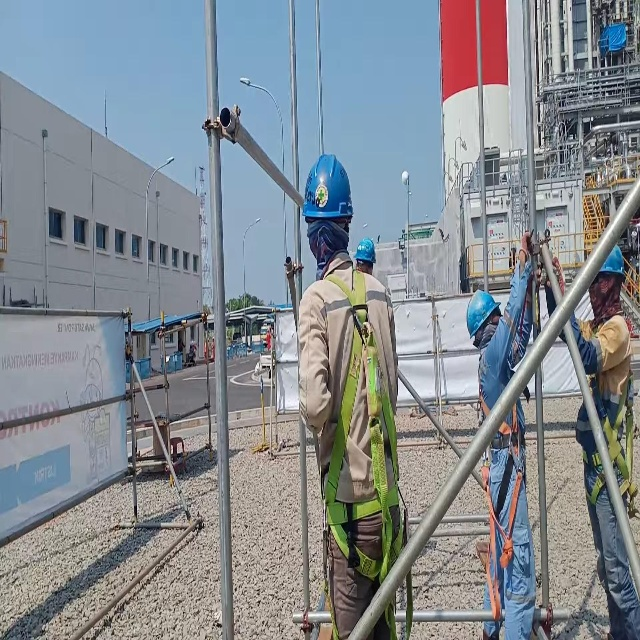Arnes_seguridad: (301, 257, 416, 640), (474, 361, 528, 617), (582, 354, 640, 521)
